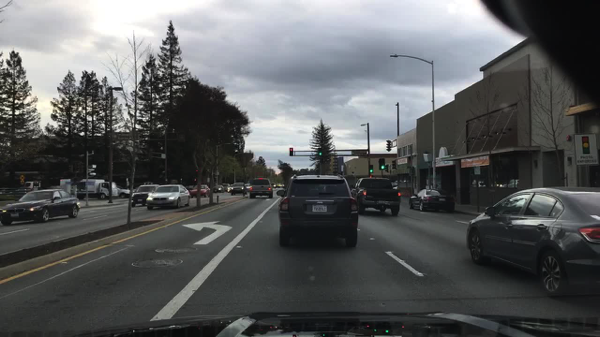car: (465, 187, 599, 300), (276, 175, 359, 247), (0, 189, 80, 226), (352, 177, 401, 217), (408, 189, 455, 214), (147, 184, 191, 209), (132, 184, 161, 208), (249, 178, 273, 199), (190, 184, 211, 198), (231, 182, 248, 196), (117, 186, 131, 199), (213, 184, 225, 193), (244, 183, 252, 193), (221, 183, 229, 191), (228, 184, 234, 193), (275, 183, 282, 189), (271, 183, 276, 190), (280, 184, 285, 188)
traffic light: (378, 158, 385, 170), (386, 140, 392, 152), (288, 147, 294, 156), (318, 147, 322, 156), (369, 164, 373, 173), (392, 161, 396, 170), (385, 164, 389, 173)
traffic sign: (573, 133, 598, 166), (350, 150, 367, 156), (473, 167, 480, 175), (160, 153, 166, 159), (20, 175, 25, 180), (20, 181, 25, 185)
truck: (60, 178, 118, 200), (19, 180, 41, 191)
